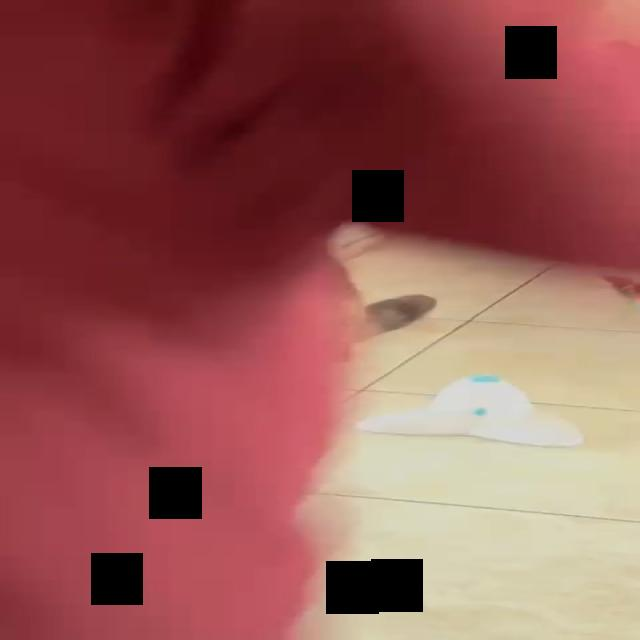authorized: (353, 373, 584, 447)
